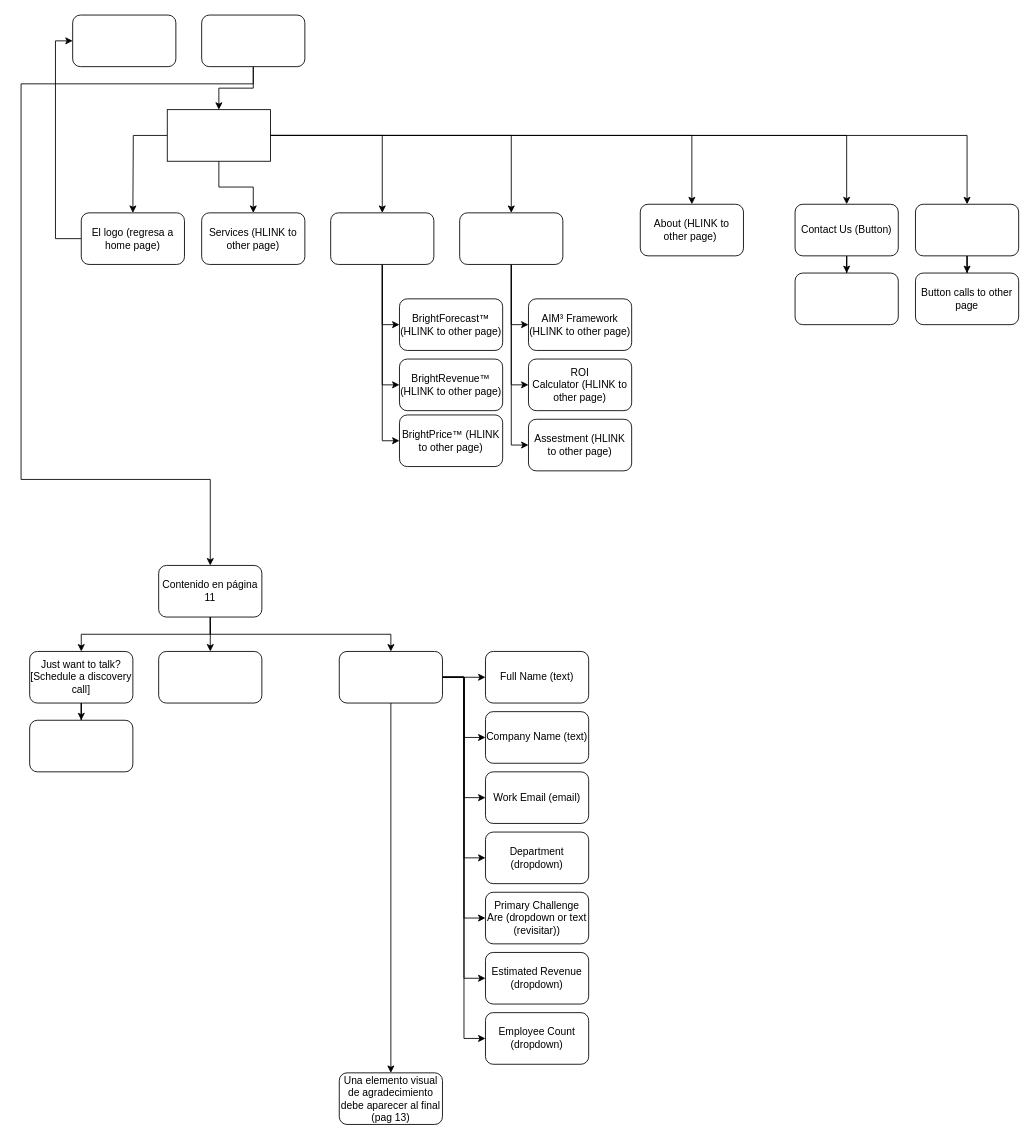
This 1034x1140 diagram has some shape labels left out. Each missing label, with the centre of its shape:
"Barra de navegación" goes at [218,135].
"Boton para descargar un PDF" goes at [210,677].
"Button calls to other page, is a contact form" goes at [846,298].
"Form a llenar" goes at [390,677].
"Homepage" goes at [124,40].
"Liga a CALENDLY (app externa)" goes at [81,745].
"Resources (drop down menu)" goes at [511,238].
"Solutions (drop down menu)" goes at [382,238].
"Start your assesment" goes at [253,40].
"Start your asssesment (Button)" goes at [967,229].
